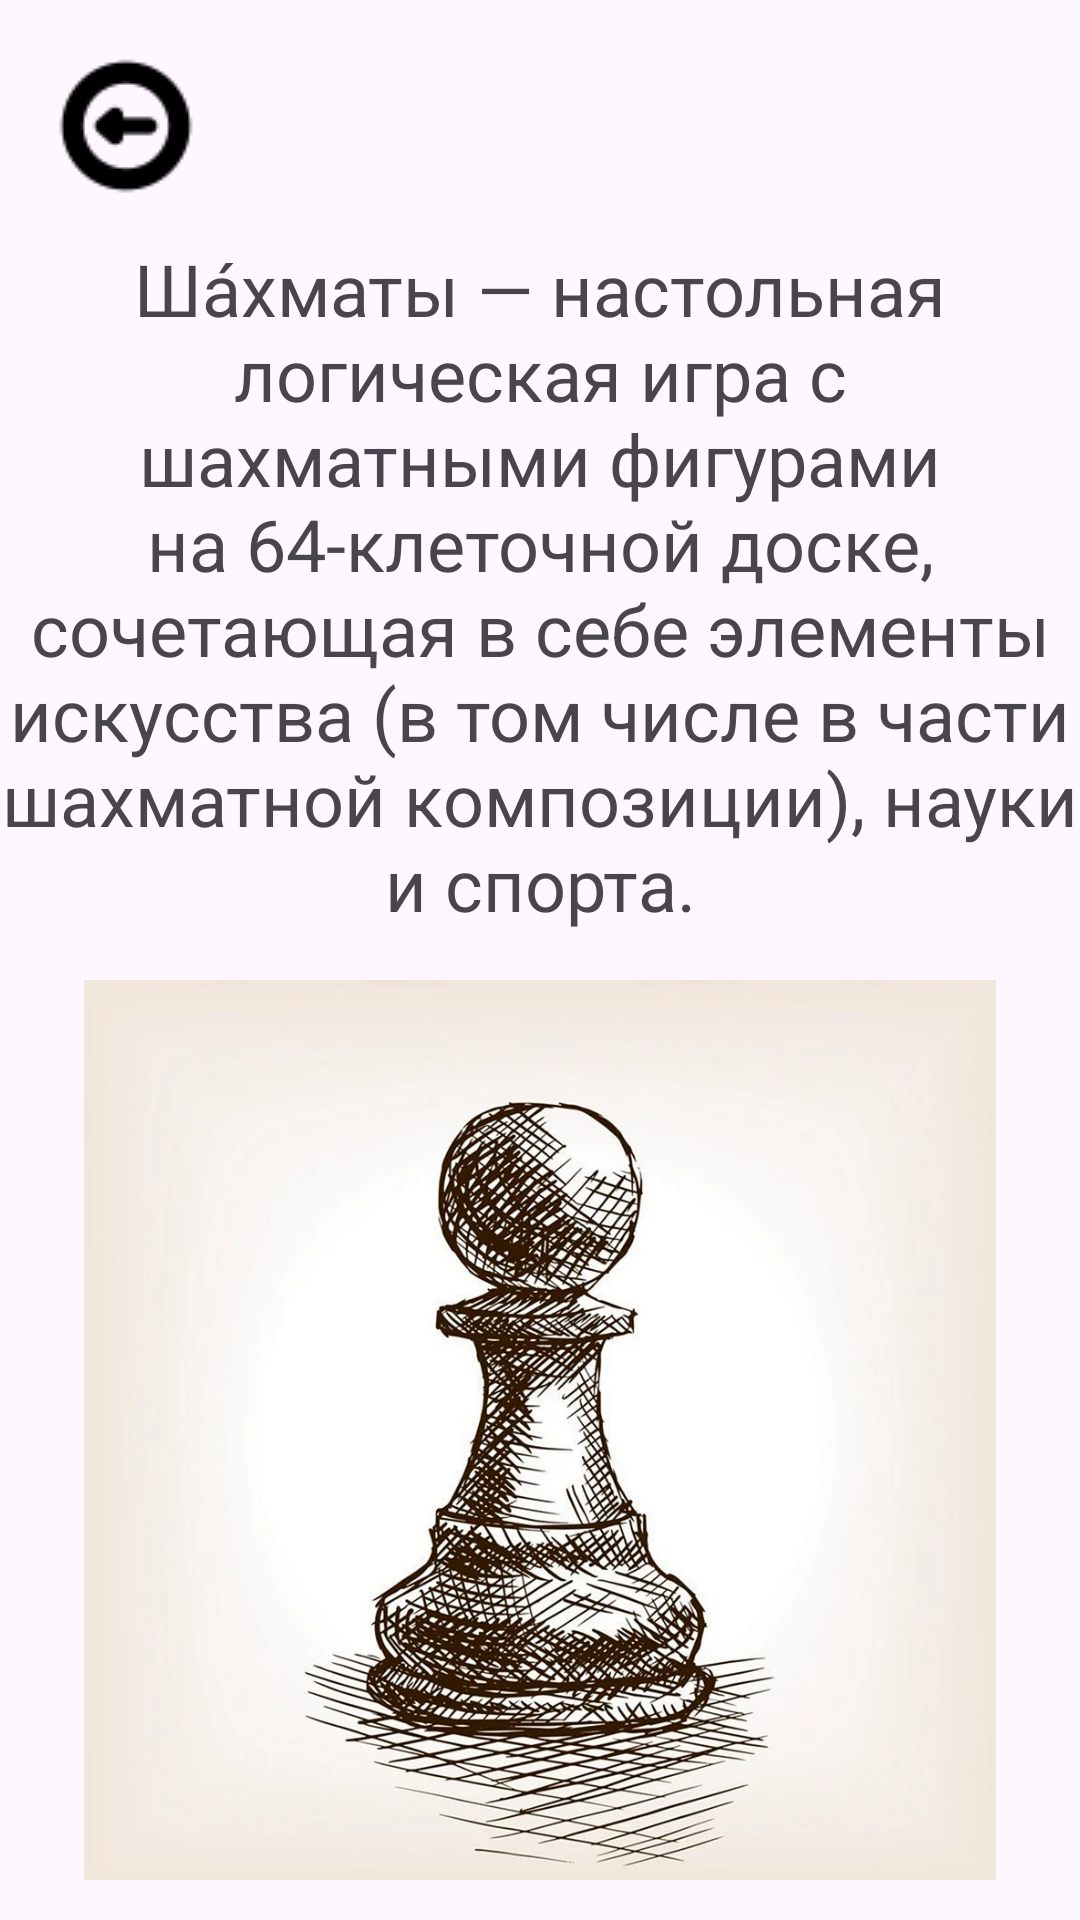

Where icons sit on this 1080×1920 app screen, as (x1, y1, x2, y2):
back: (59, 59, 193, 193)
